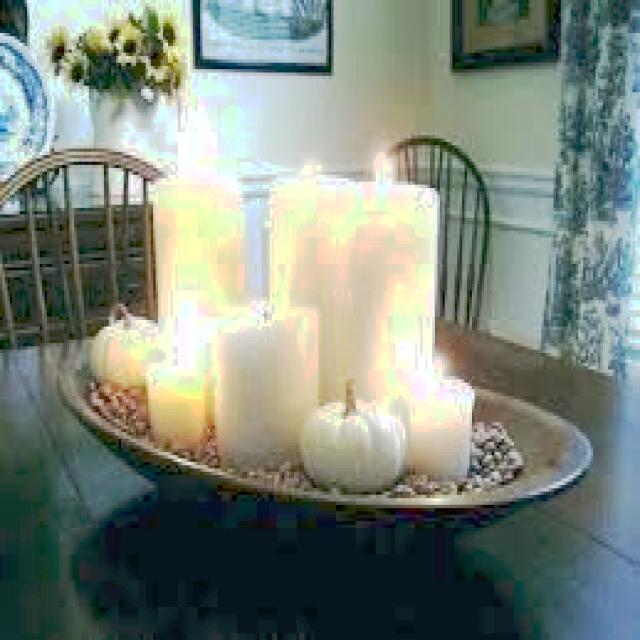api: (367, 143, 406, 192)
